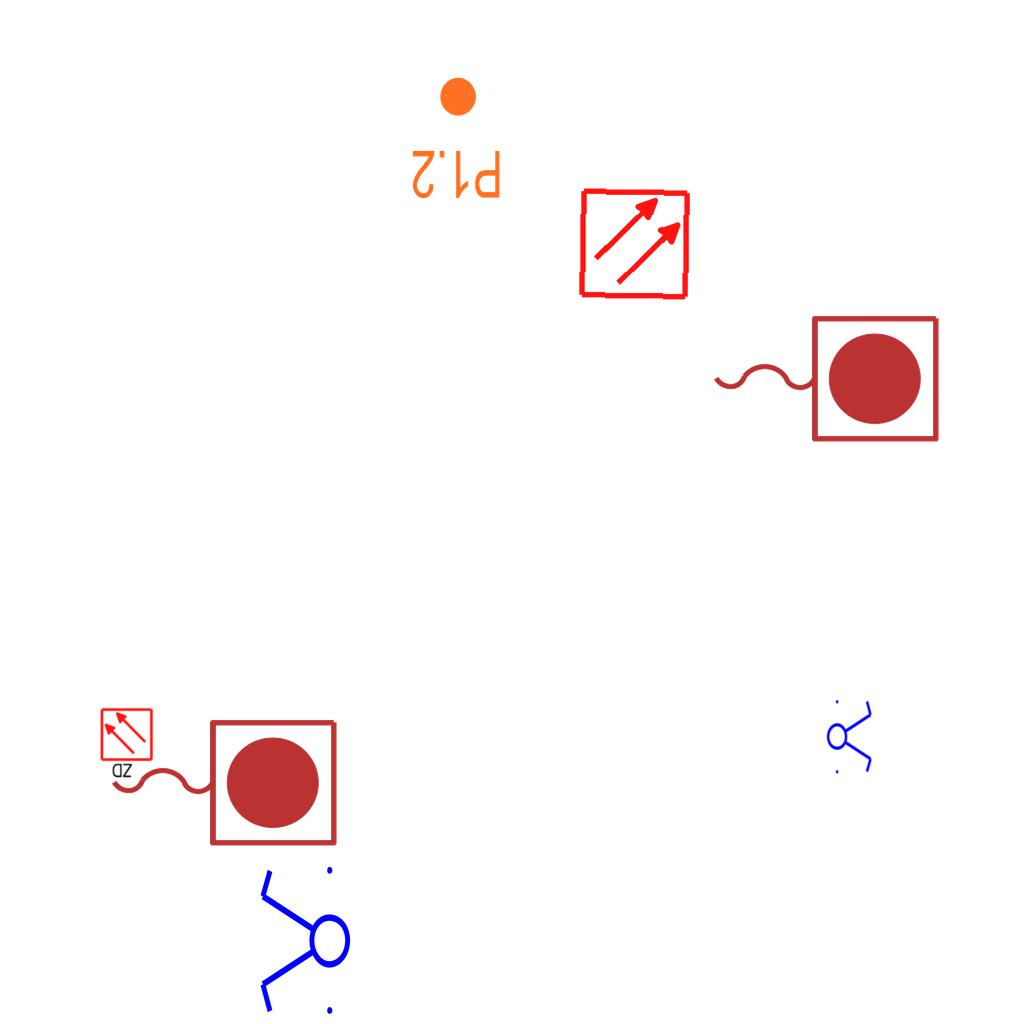Downlight_LED_Einbauleuchten_Flur: (410, 74, 503, 202)
RMO_Rauchmelder_optischer: (577, 186, 692, 301)
Serienschalter: (256, 858, 352, 1024), (826, 694, 874, 778)
ZD_Melder_in_Zwischendecke_mit_Revisionsoeffnung_mind_40_x_40_cm: (99, 707, 156, 781)
Zugtaster: (703, 305, 947, 449), (101, 709, 345, 853)
